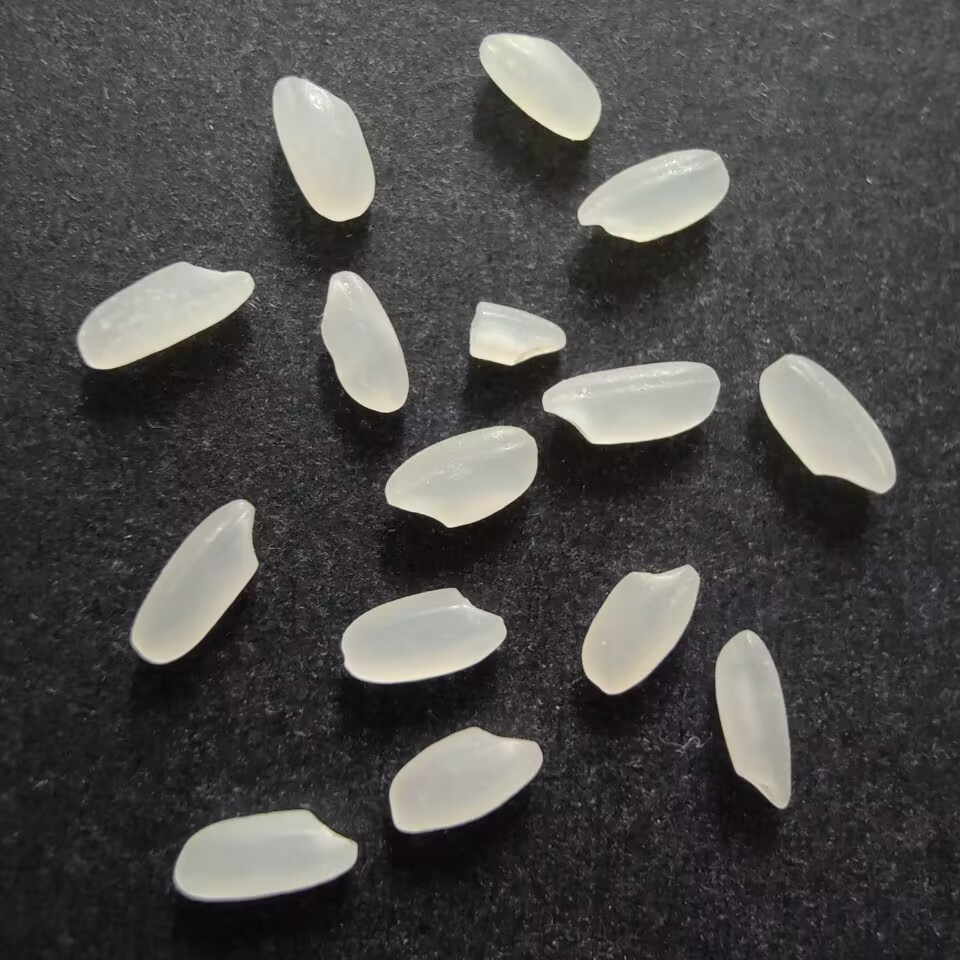broken: (464, 298, 571, 367)
rice: (125, 496, 263, 668), (72, 256, 258, 376), (753, 350, 896, 500), (171, 803, 363, 905), (383, 722, 548, 837), (576, 559, 704, 699), (379, 422, 542, 531), (337, 584, 509, 687), (538, 358, 721, 449), (713, 626, 800, 814), (270, 74, 378, 224), (575, 146, 730, 246), (477, 28, 605, 144), (318, 265, 413, 416)
